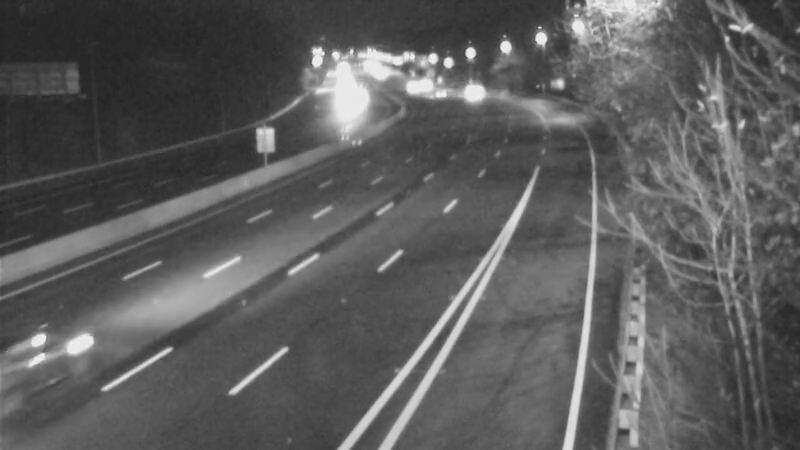vehicle: (1, 311, 107, 421), (386, 62, 436, 112), (411, 67, 461, 117), (446, 64, 496, 114)
